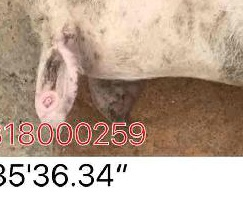text: (22, 78, 75, 124)
